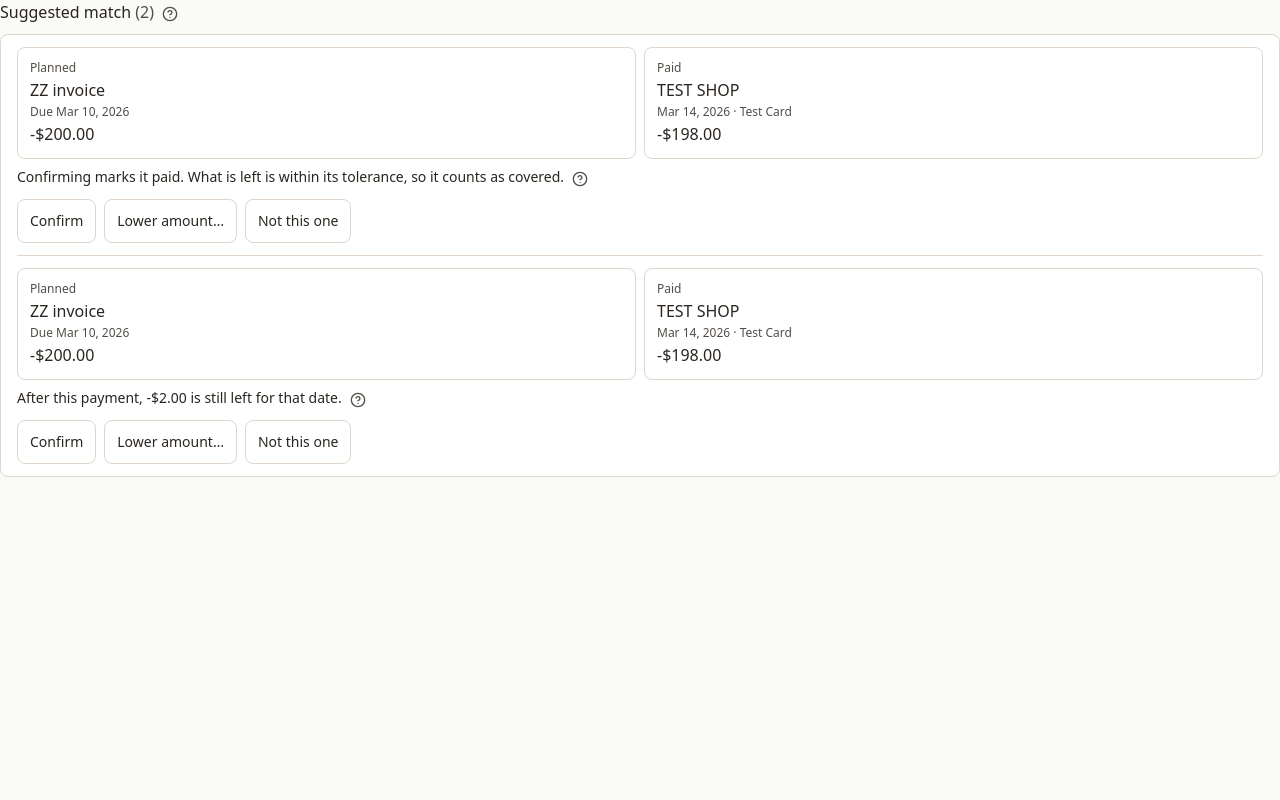
it: suggested match card: the plain line says it
Expected: the text "Confirming marks it paid. What is left is within its tolerance" is shown, [17,168,564,186]
Expected: the text "After this payment, -$2.00 is still left for that date." is shown, [17,388,370,408]
Click the 1st button named "About What confirming does".
click(580, 179)  # box [568,167,592,191]
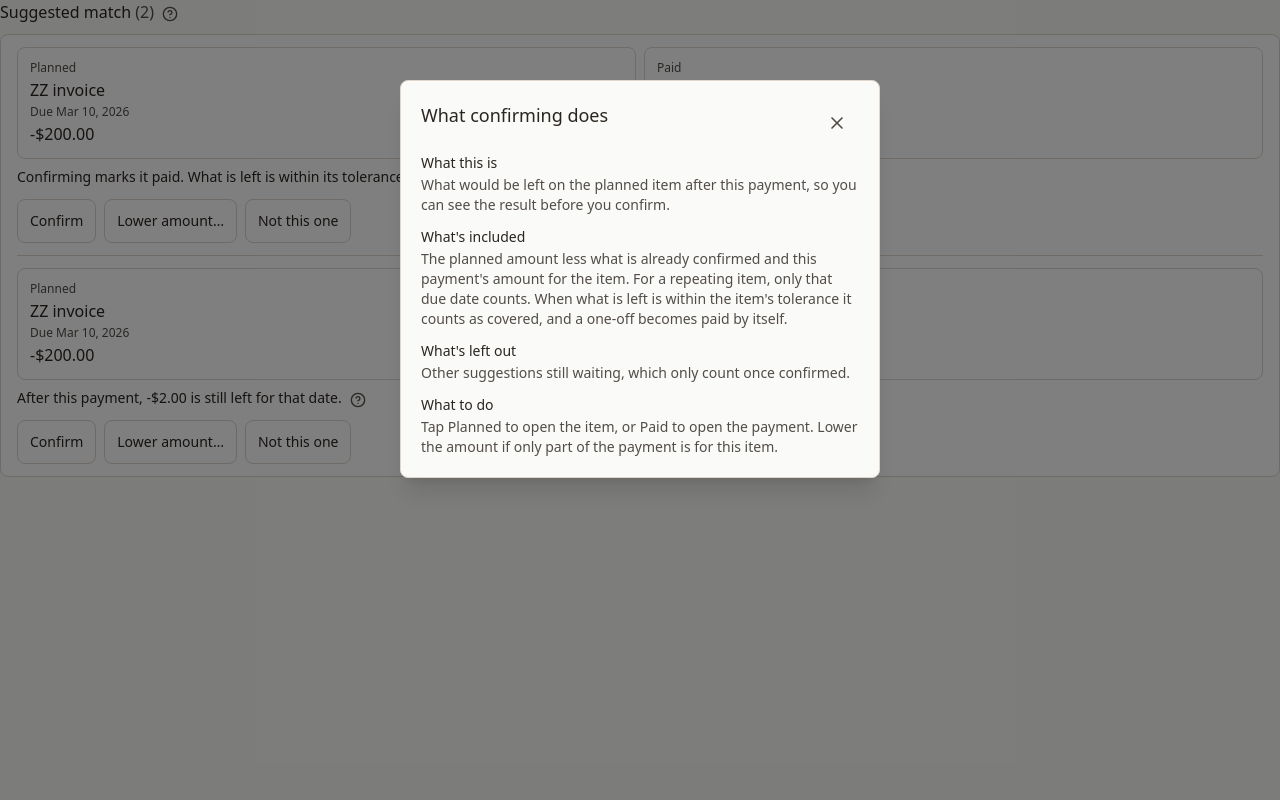
Now the dialog "What confirming does" is shown, box [400,80,880,478]
